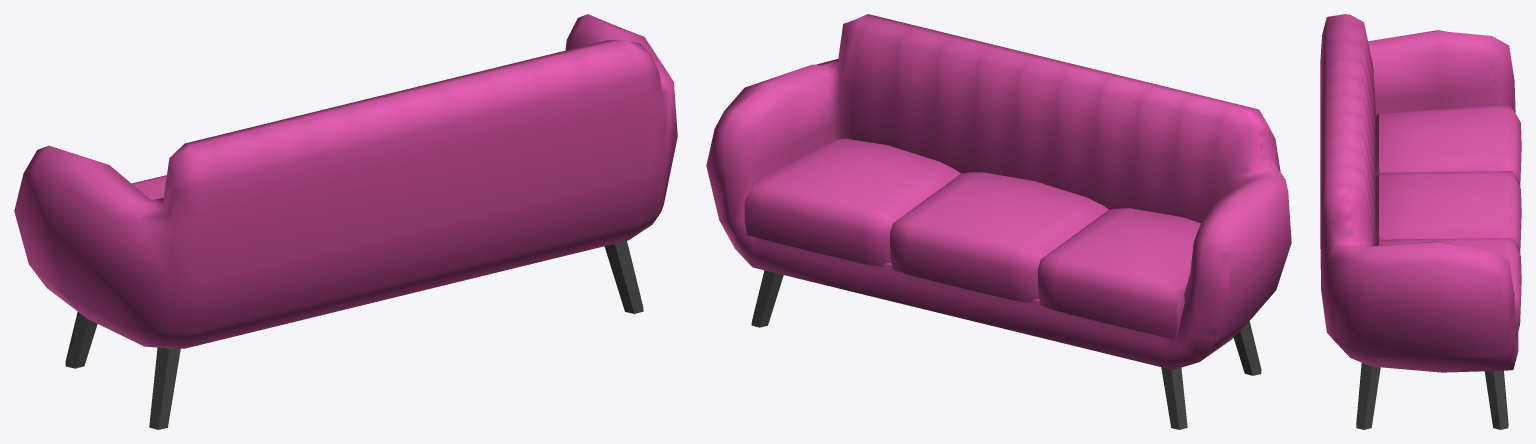
File: FUR0210039.fbx
The picture shows the model from 3 angles, left to right: view 1: azimuth 30°, elevation 25°; view 2: azimuth 150°, elevation 25°; view 3: azimuth 270°, elevation 25°; orthographic projection. The views are drawn at different scales.
Visible parts, largest first — view 1: smFUR0210039; view 2: smFUR0210039; view 3: smFUR0210039.
Part boxes in pixels (x1,y1,x2,y2): smFUR0210039: (14, 14, 677, 429); smFUR0210039: (706, 14, 1291, 429); smFUR0210039: (1320, 14, 1521, 429).
Bounding box in the file's own units: 240 × 108 × 85.55.
Materials: 1 (1 with a texture image).
